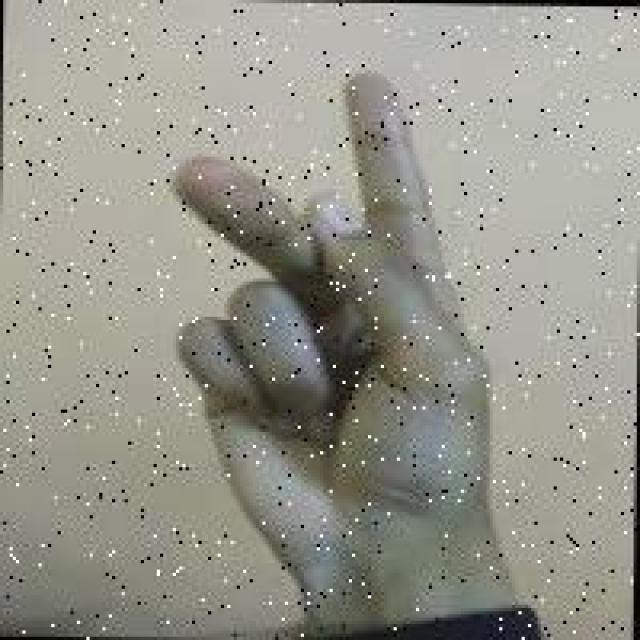K: (155, 56, 514, 562)
